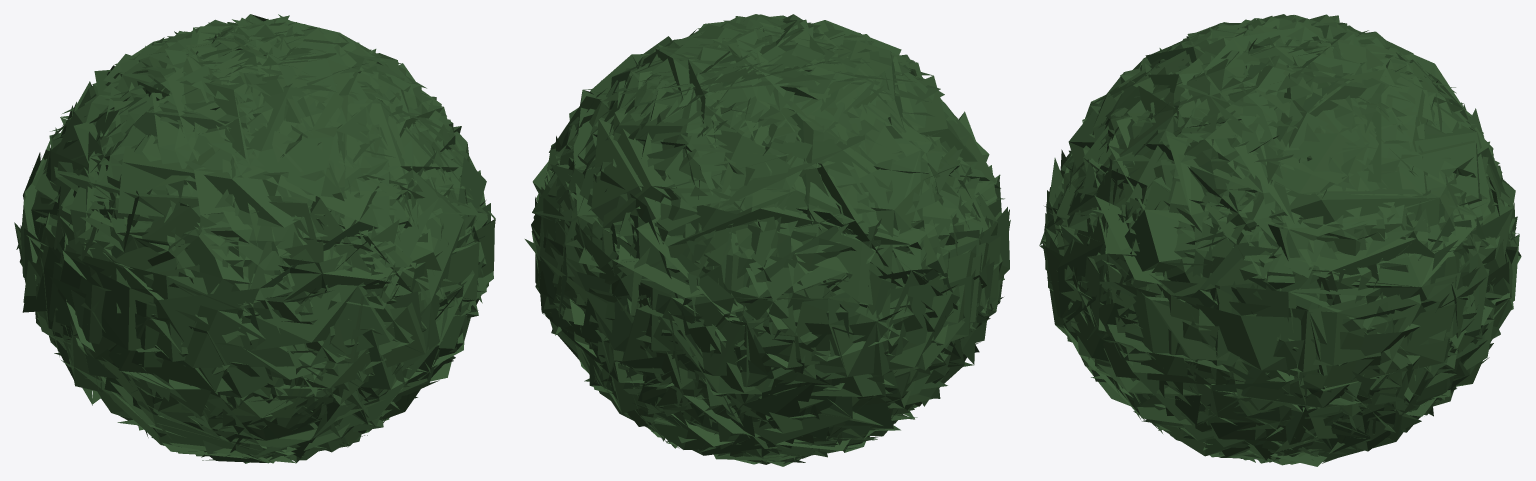
The model's file is gen-shrub-round-1.glb.
3 views of the same model, side by side, from view 1: azimuth 30°, elevation 25°; view 2: azimuth 150°, elevation 25°; view 3: azimuth 270°, elevation 25° (orthographic).
Parts seen in each view (by area): view 1: gen-shrub-round-1_part1; view 2: gen-shrub-round-1_part1; view 3: gen-shrub-round-1_part1.
Part boxes in pixels (left/top/right/bottom): gen-shrub-round-1_part1: left=14, top=14, right=495, bottom=463; gen-shrub-round-1_part1: left=525, top=14, right=1010, bottom=466; gen-shrub-round-1_part1: left=1039, top=14, right=1521, bottom=466.
Size of the model in its own units: 964 by 900 by 962.
